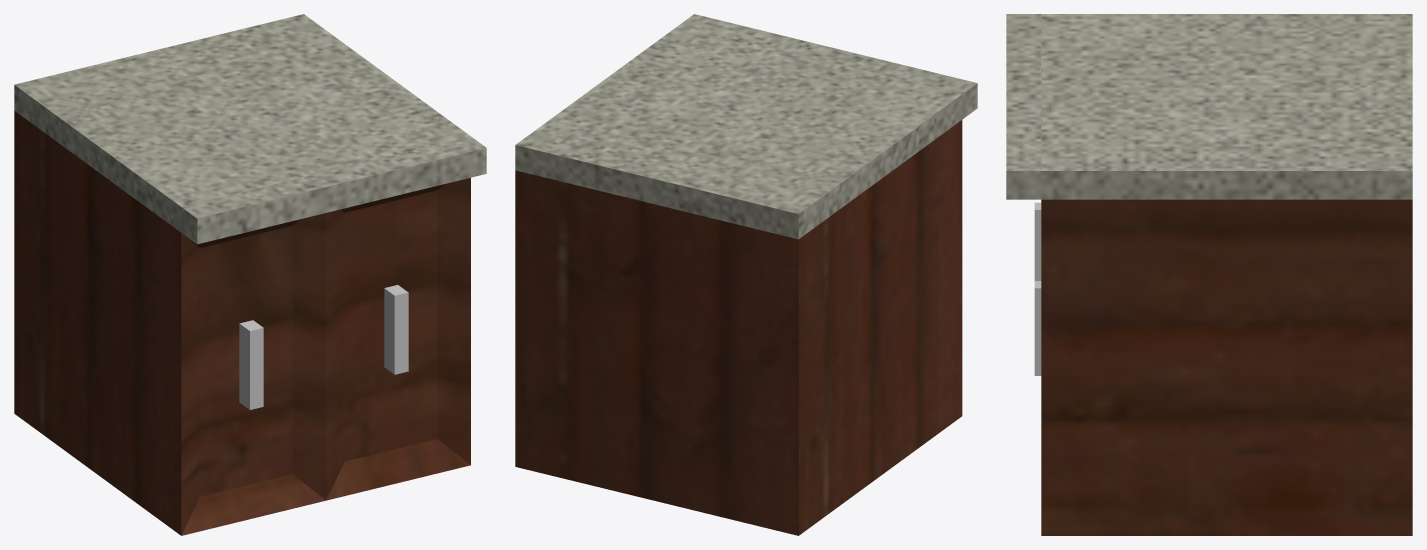
Rendered from kitchen cabin.fbx.
3 renders of one model, left to right at view 1: azimuth 30°, elevation 25°; view 2: azimuth 150°, elevation 25°; view 3: azimuth 270°, elevation 25°, orthographic. The views are drawn at different scales.
Parts seen in each view (by area): view 1: kitchen cabin, Cube.002, Cube.004, Cube.003; view 2: kitchen cabin, Cube.002; view 3: kitchen cabin, Cube.002, Cube.004, Cube.003.
Boxes of the visible parts, left/top/right/bottom form: kitchen cabin: left=14, top=111, right=470, bottom=535; Cube.002: left=14, top=14, right=486, bottom=244; Cube.004: left=384, top=285, right=408, bottom=374; Cube.003: left=239, top=320, right=263, bottom=409; kitchen cabin: left=515, top=120, right=962, bottom=535; Cube.002: left=515, top=14, right=977, bottom=239; kitchen cabin: left=1041, top=199, right=1412, bottom=535; Cube.002: left=1006, top=14, right=1412, bottom=199; Cube.004: left=1034, top=281, right=1041, bottom=375; Cube.003: left=1034, top=202, right=1041, bottom=280.
Bounding box in the file's own units: 200 × 217 × 219.
